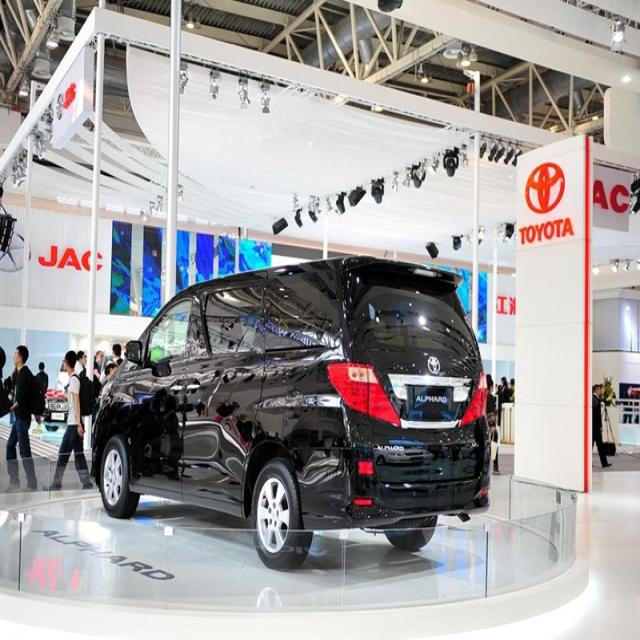back_glass: (343, 258, 481, 358)
back_left_side_light: (326, 360, 402, 429)
back_right_side_light: (459, 371, 487, 427)
door: (200, 290, 266, 493)
front_left_side_door: (128, 287, 198, 503)
front_left_side_light: (99, 377, 115, 407)
front_left_side_mirror: (124, 338, 142, 364)
rear_bumper: (340, 434, 492, 532)
wheel: (250, 458, 314, 572), (100, 432, 141, 520), (378, 514, 441, 550)
